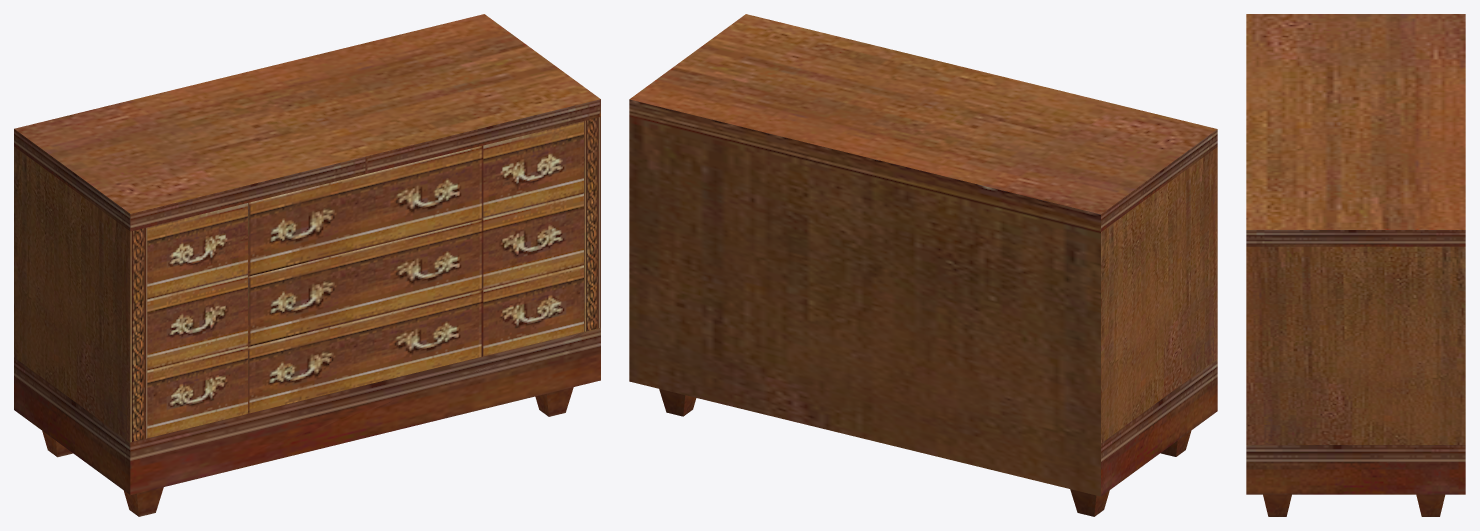
The model's file is dresser_antique.fbx.
The picture shows the model from 3 angles, left to right: view 1: azimuth 30°, elevation 25°; view 2: azimuth 150°, elevation 25°; view 3: azimuth 270°, elevation 25°; orthographic projection. The views are drawn at different scales.
Parts seen in each view (by area): view 1: mesh_0; view 2: mesh_0; view 3: mesh_0.
Part boxes in pixels (x1=…): mesh_0: x1=14, y1=14, x2=600, y2=516; mesh_0: x1=629, y1=14, x2=1217, y2=516; mesh_0: x1=1246, y1=14, x2=1465, y2=516.
Size of the model in its own units: 140 by 90 by 60.
Materials: 1 (1 with a texture image).
